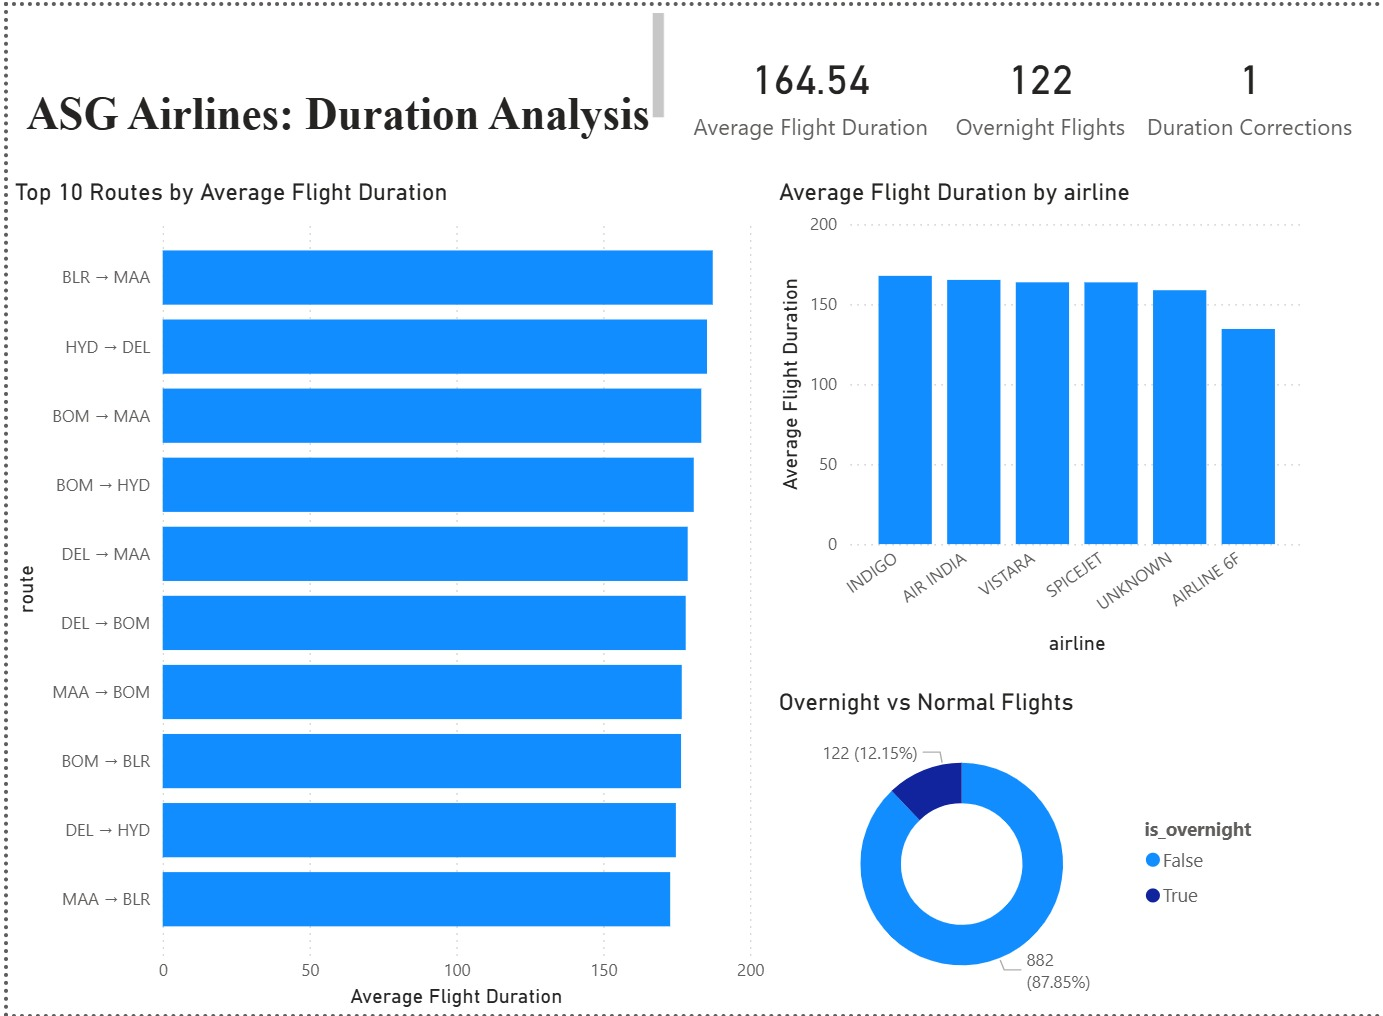

Layout of this report page (visuals, bound fields, positions):
{"tool":"powerbi","page":{"name":"Duration Analysis","canvas":[1280,720],"ordinal":1},"visuals":[{"type":"card","fields":{"Values":["fact_bookings.Average Flight Duration"]},"box":[477.5,0,192.5,122.5],"z":0},{"type":"card","fields":{"Values":["fact_bookings.Overnight Flights"]},"box":[670,0,135,122.5],"z":1000},{"type":"card","fields":{"Values":["fact_bookings.Duration Corrections"]},"box":[805,0,162.5,122.5],"z":2000},{"type":"clusteredColumnChart","fields":{"Category":["fact_flights.airline"],"Y":["fact_bookings.Average Flight Duration"]},"box":[545,122.5,385,345],"z":3000},{"type":"clusteredBarChart","title":"Top 10 Routes by Average Flight Duration","fields":{"Category":["fact_flights.route"],"Y":["fact_bookings.Average Flight Duration"]},"box":[0,122.5,545,597.5],"z":4000},{"type":"donutChart","title":"Overnight vs Normal Flights","fields":{"Category":["fact_flights.is_overnight"],"Y":["fact_bookings.Total Flights"]},"box":[545,487.5,365,232.5],"z":5000},{"type":"textbox","box":[0,0,473.3,100],"z":5001}]}

Visuals, with their boxes on the page's 1280x720 design canvas (x1, y1, x2, y2). These are canvas units, not pixel positions in the 1383x1016 screenshot, which may show the page scaled, cropped or inside an application window:
card - fact_bookings.Average Flight Duration: <region>478, 0, 670, 122</region>
card - fact_bookings.Overnight Flights: <region>670, 0, 805, 122</region>
card - fact_bookings.Duration Corrections: <region>805, 0, 968, 122</region>
clusteredColumnChart - fact_flights.airline x fact_bookings.Average Flight Duration: <region>545, 122, 930, 468</region>
"Top 10 Routes by Average Flight Duration" clusteredBarChart: <region>0, 122, 545, 720</region>
"Overnight vs Normal Flights" donutChart: <region>545, 488, 910, 720</region>
textbox: <region>0, 0, 473, 100</region>
